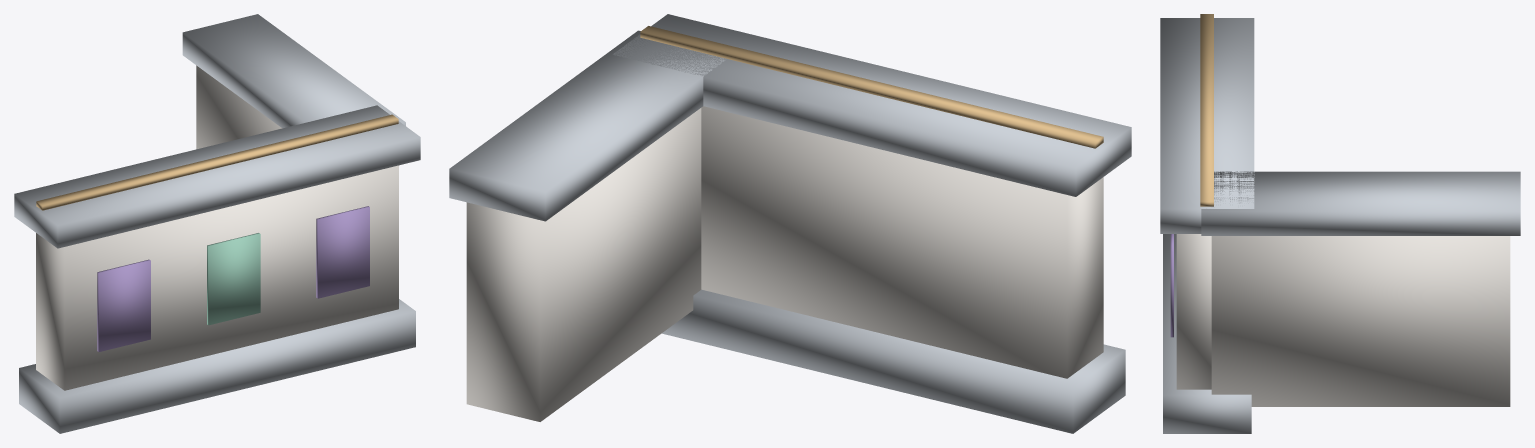
The model's file is arc_wall_corner.glb.
The picture shows the model from 3 angles, left to right: view 1: azimuth 30°, elevation 25°; view 2: azimuth 150°, elevation 25°; view 3: azimuth 270°, elevation 25°; orthographic projection. The views are drawn at different scales.
Visible parts, largest first — view 1: ARC_wall_corner_body, ARC_wall_corner_cap, ARC_wall_corner_base, ARC_wall_corner_corner_cap, ARC_wall_corner_panel_0.8, ARC_wall_corner_panel_-0.8, ARC_wall_corner_panel_0, ARC_wall_corner_gold_crest, ARC_wall_corner_corner_body; view 2: ARC_wall_corner_body, ARC_wall_corner_corner_body, ARC_wall_corner_cap, ARC_wall_corner_base, ARC_wall_corner_corner_cap, ARC_wall_corner_gold_crest; view 3: ARC_wall_corner_corner_body, ARC_wall_corner_corner_cap, ARC_wall_corner_cap, ARC_wall_corner_base, ARC_wall_corner_body, ARC_wall_corner_gold_crest, ARC_wall_corner_panel_0.8.
Part boxes in pixels (x1,y1,x2,y2): ARC_wall_corner_body: [36, 165, 398, 390]; ARC_wall_corner_cap: [14, 105, 420, 248]; ARC_wall_corner_base: [19, 299, 415, 433]; ARC_wall_corner_corner_cap: [182, 14, 405, 128]; ARC_wall_corner_panel_0.8: [316, 206, 369, 298]; ARC_wall_corner_panel_-0.8: [97, 259, 150, 351]; ARC_wall_corner_panel_0: [207, 233, 260, 325]; ARC_wall_corner_gold_crest: [36, 114, 398, 210]; ARC_wall_corner_corner_body: [196, 65, 282, 149]; ARC_wall_corner_body: [701, 106, 1103, 378]; ARC_wall_corner_corner_body: [466, 108, 701, 421]; ARC_wall_corner_cap: [613, 14, 1131, 196]; ARC_wall_corner_base: [662, 289, 1125, 433]; ARC_wall_corner_corner_cap: [449, 30, 725, 221]; ARC_wall_corner_gold_crest: [640, 26, 1103, 148]; ARC_wall_corner_corner_body: [1211, 236, 1510, 406]; ARC_wall_corner_corner_cap: [1201, 171, 1520, 235]; ARC_wall_corner_cap: [1160, 18, 1254, 233]; ARC_wall_corner_base: [1163, 234, 1251, 433]; ARC_wall_corner_body: [1176, 234, 1211, 389]; ARC_wall_corner_gold_crest: [1200, 14, 1213, 206]; ARC_wall_corner_panel_0.8: [1170, 234, 1173, 337].
Size of the model in its own units: 2.68 by 1.5 by 2.11.
